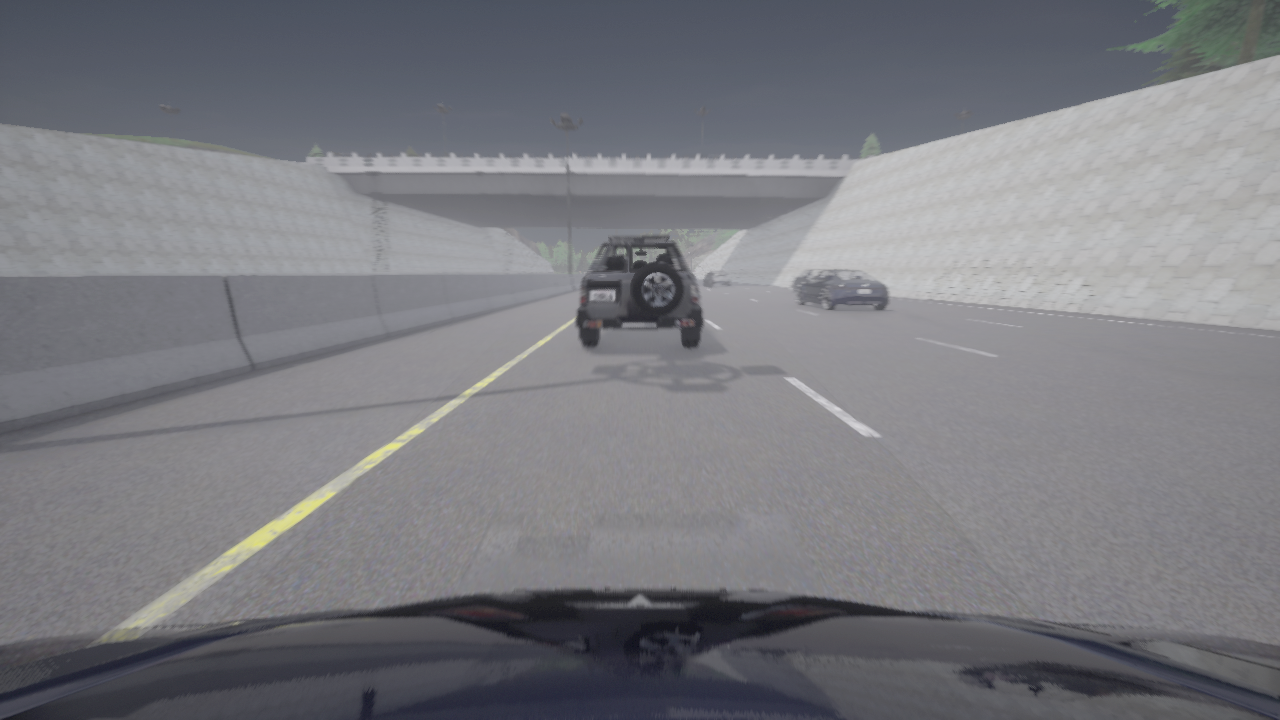cyclist: (0, 588, 1279, 719), (575, 236, 702, 347), (796, 269, 889, 310), (791, 269, 826, 292), (704, 270, 729, 287)
